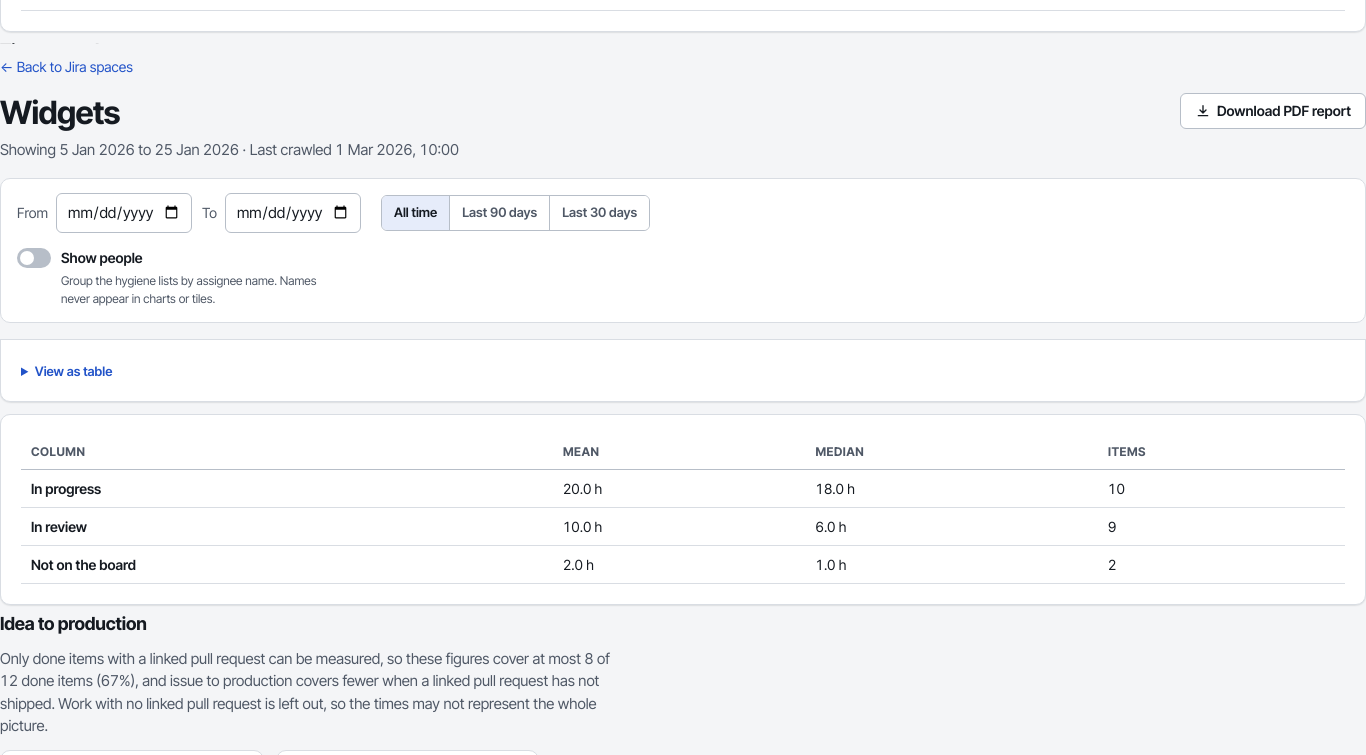
Test case: SpacePage › shows time per column as a stacked bar with mean, median and items in the table
(page scrolled)
Expected: the text "Mean hours per done item in each column, from started to done, so the columns add up to the mean issue cycle time." is shown, [21,156,583,194]
Expected: the list item "In progress" is shown, [21,208,99,228]
Click the heading "View as table" at [74, 371], box [35,363,112,379]
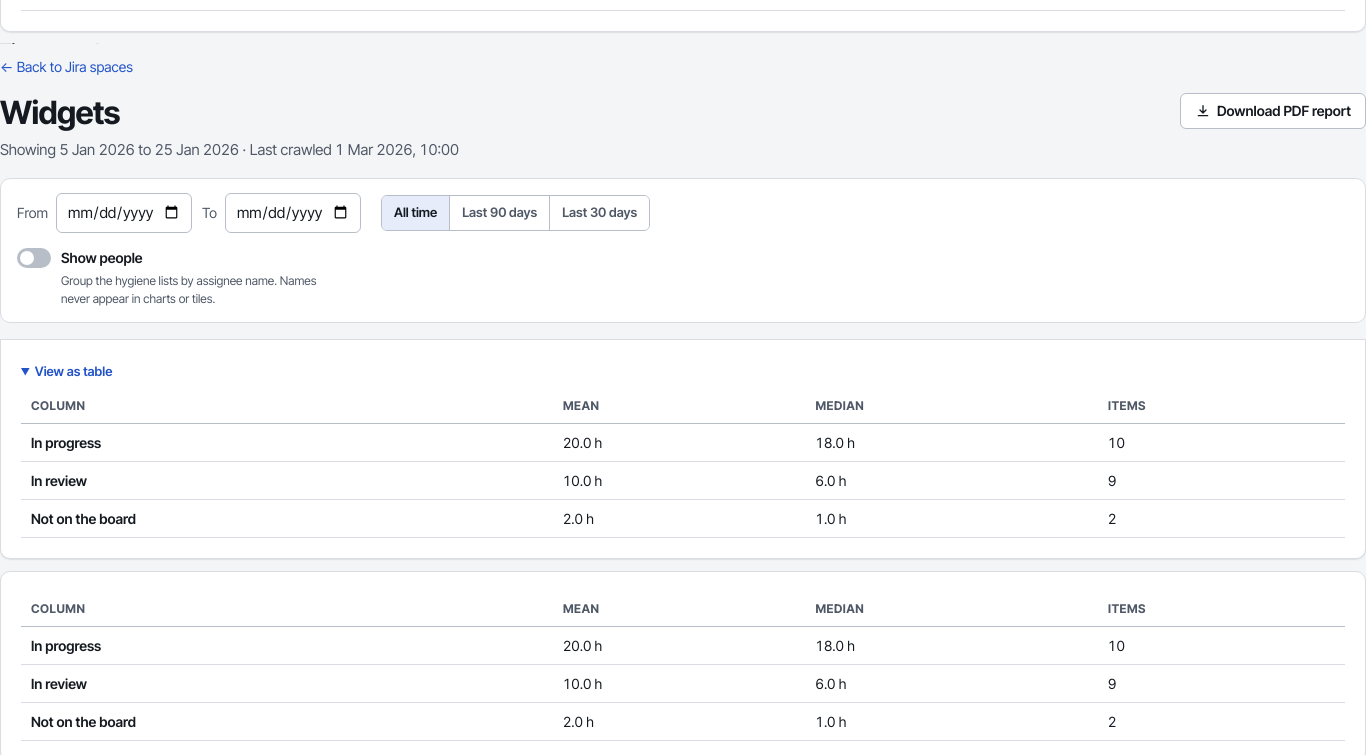
Now the row "Not on the board 2.0 h 1.0 h 2" below "16.0 h" is shown, box [21,500,1345,538]
Now the cells read "10.0 h", "6.0 h", "9", in this order, box [553,462,806,500]; [806,462,1098,500]; [1098,462,1345,500]
